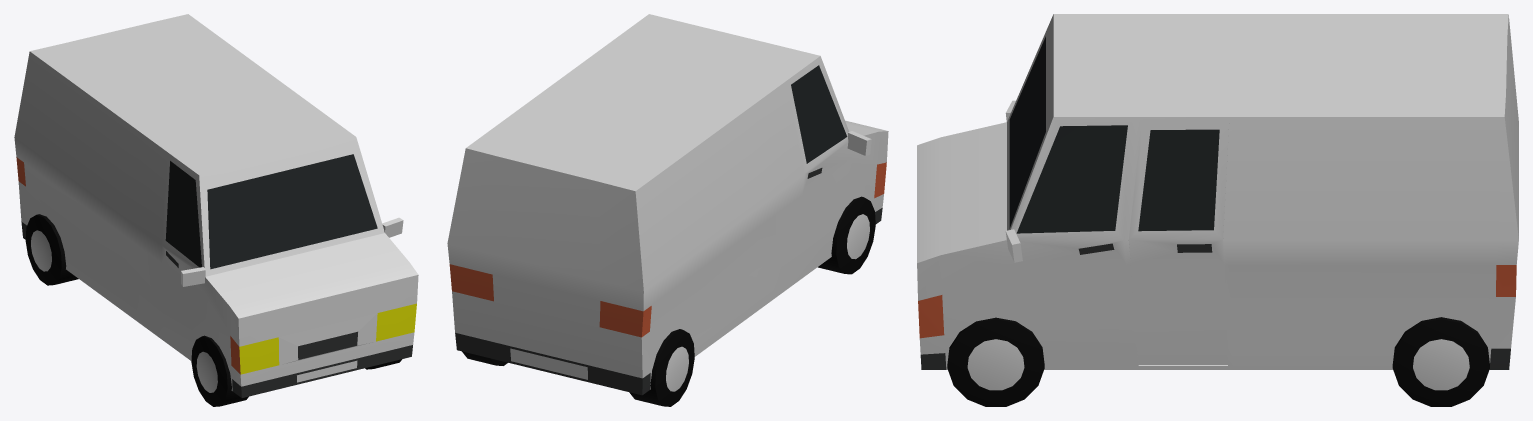
The model's file is BVan1.fbx.
3 views of the same model, side by side, from view 1: azimuth 30°, elevation 25°; view 2: azimuth 150°, elevation 25°; view 3: azimuth 270°, elevation 25° (orthographic). The views are drawn at different scales.
Parts seen in each view (by area): view 1: pCube4, WheelRL2, WheelRL4, pCube3; view 2: pCube4, WheelRL2, WheelRL4, pCube3; view 3: pCube4, WheelRL1, WheelRL3.
Part boxes in pixels (<box>): pCube4: <box>14,14,418,397</box>; WheelRL2: <box>25,214,78,285</box>; WheelRL4: <box>191,335,248,406</box>; pCube3: <box>181,267,205,286</box>; pCube4: <box>447,14,888,395</box>; WheelRL2: <box>629,329,694,406</box>; WheelRL4: <box>818,196,875,274</box>; pCube3: <box>847,131,871,155</box>; pCube4: <box>917,14,1518,369</box>; WheelRL1: <box>1392,317,1489,406</box>; WheelRL3: <box>947,317,1044,406</box>.
Bounding box in the file's own units: 3.56 × 3.25 × 6.28.
